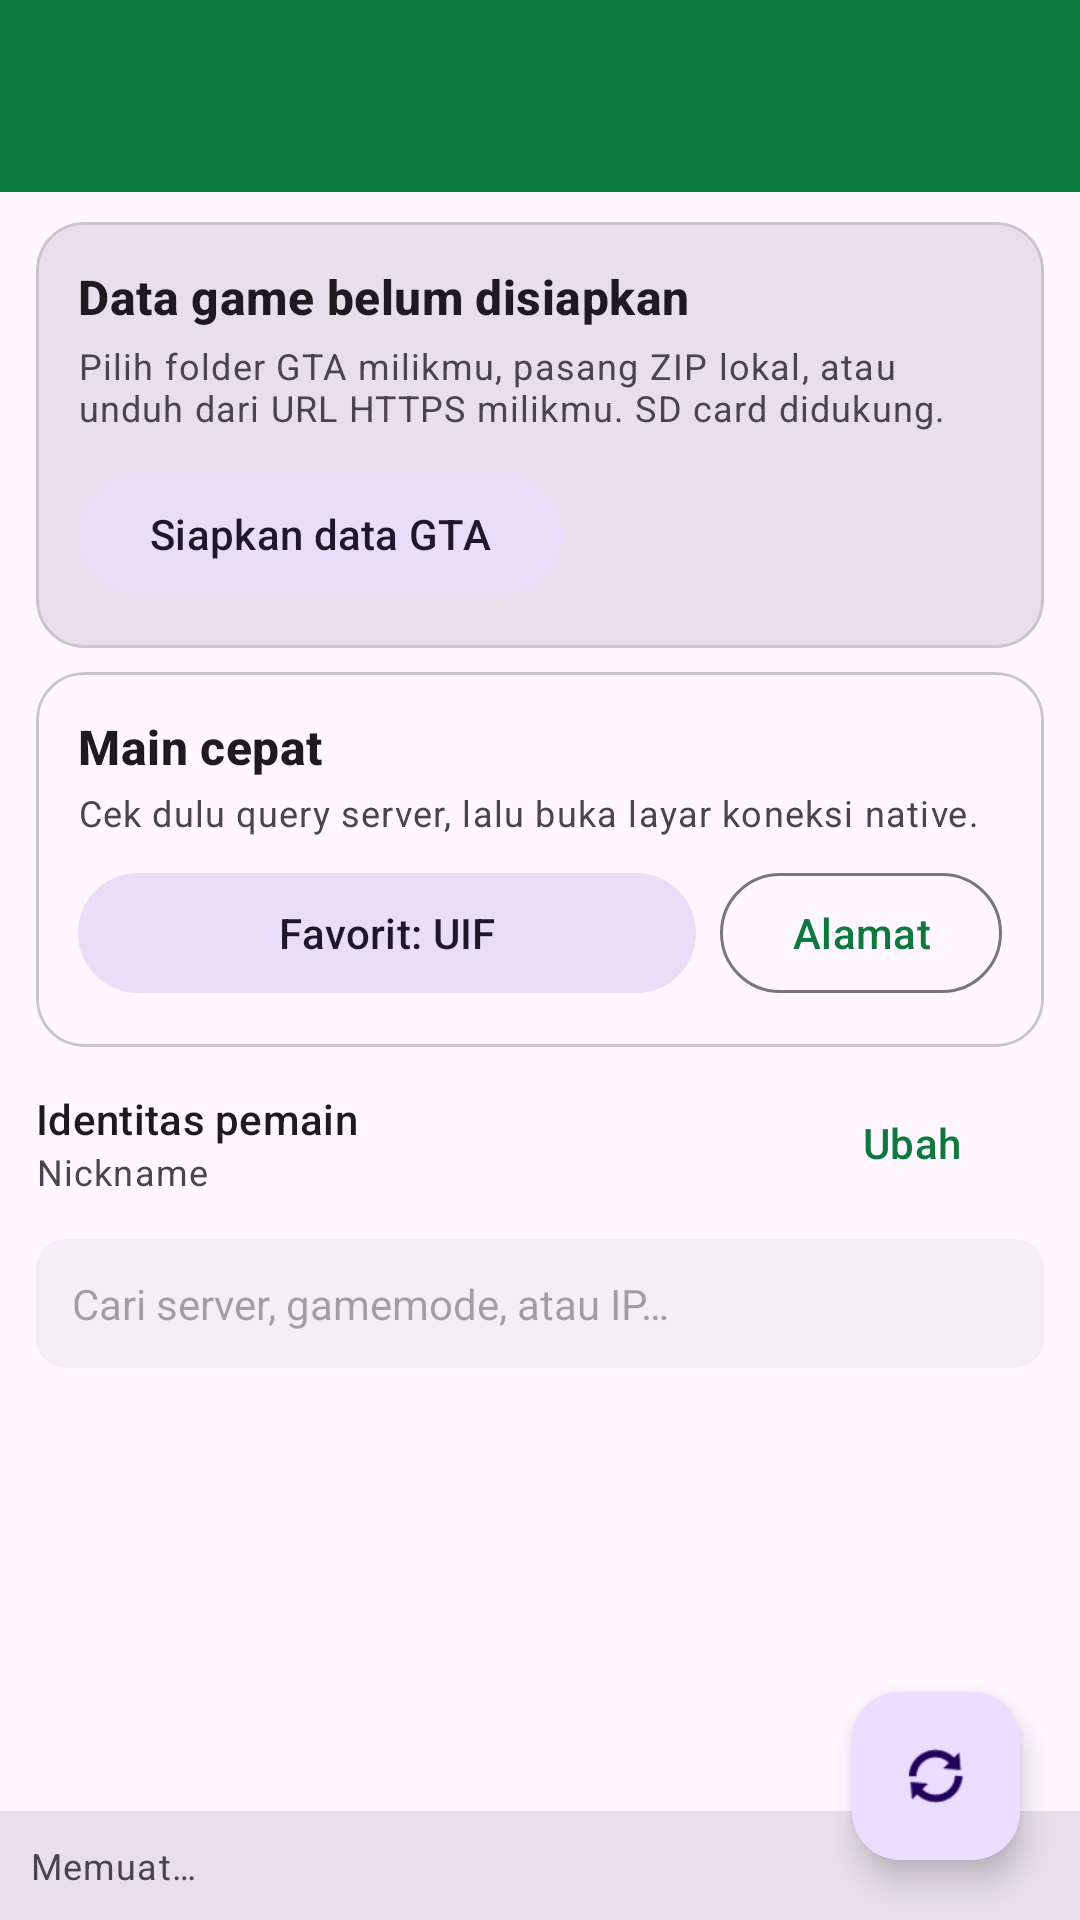

Icon click points for this 1080*1920 phone screenshot, format (x=x, y=y):
Muat ulang: (x=936, y=1776)
